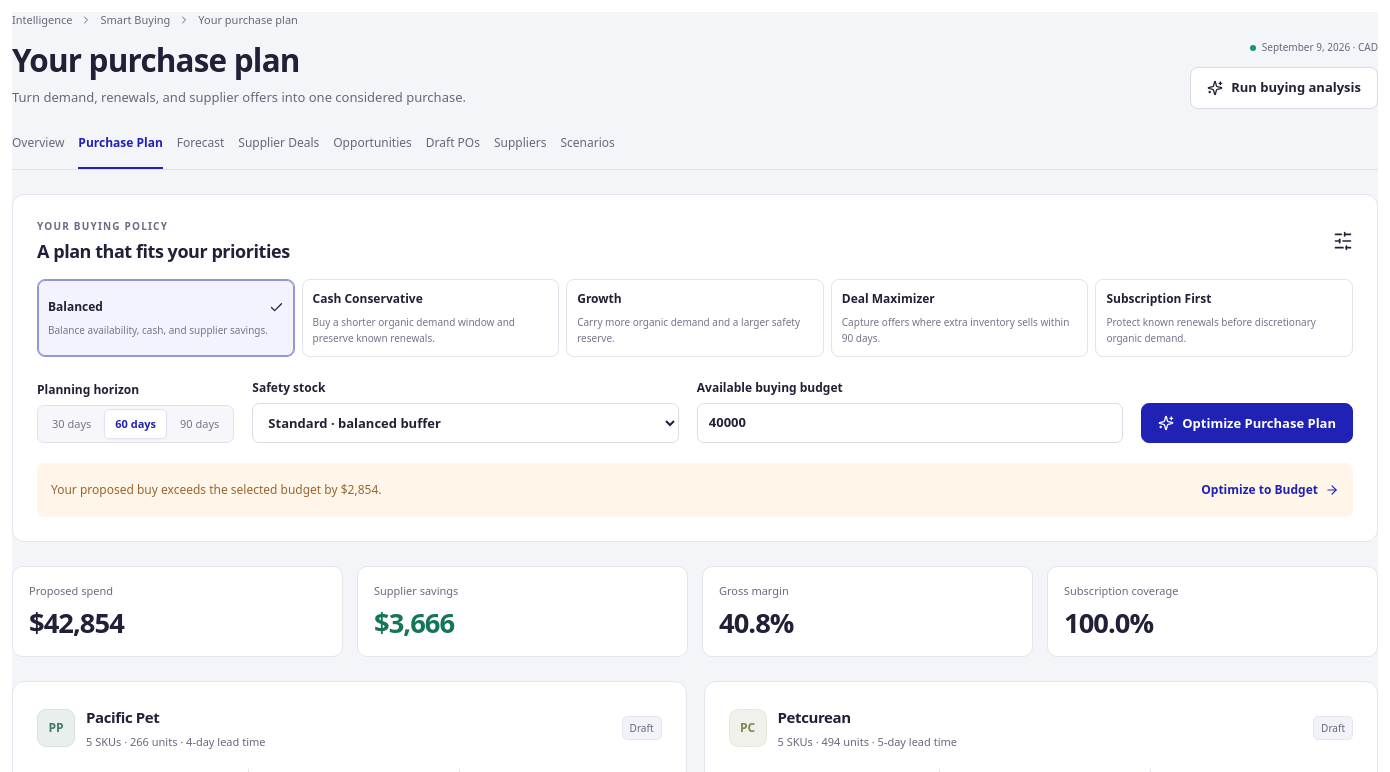
Test: Smart Buying investor workflows › optimizes to a cash budget including freight and tax
The image size is (1390, 772).
Replace the text in the number field labelled "Available buying budget" with "25000" at (910, 423), box x1=697 y1=403 x2=1123 y2=443
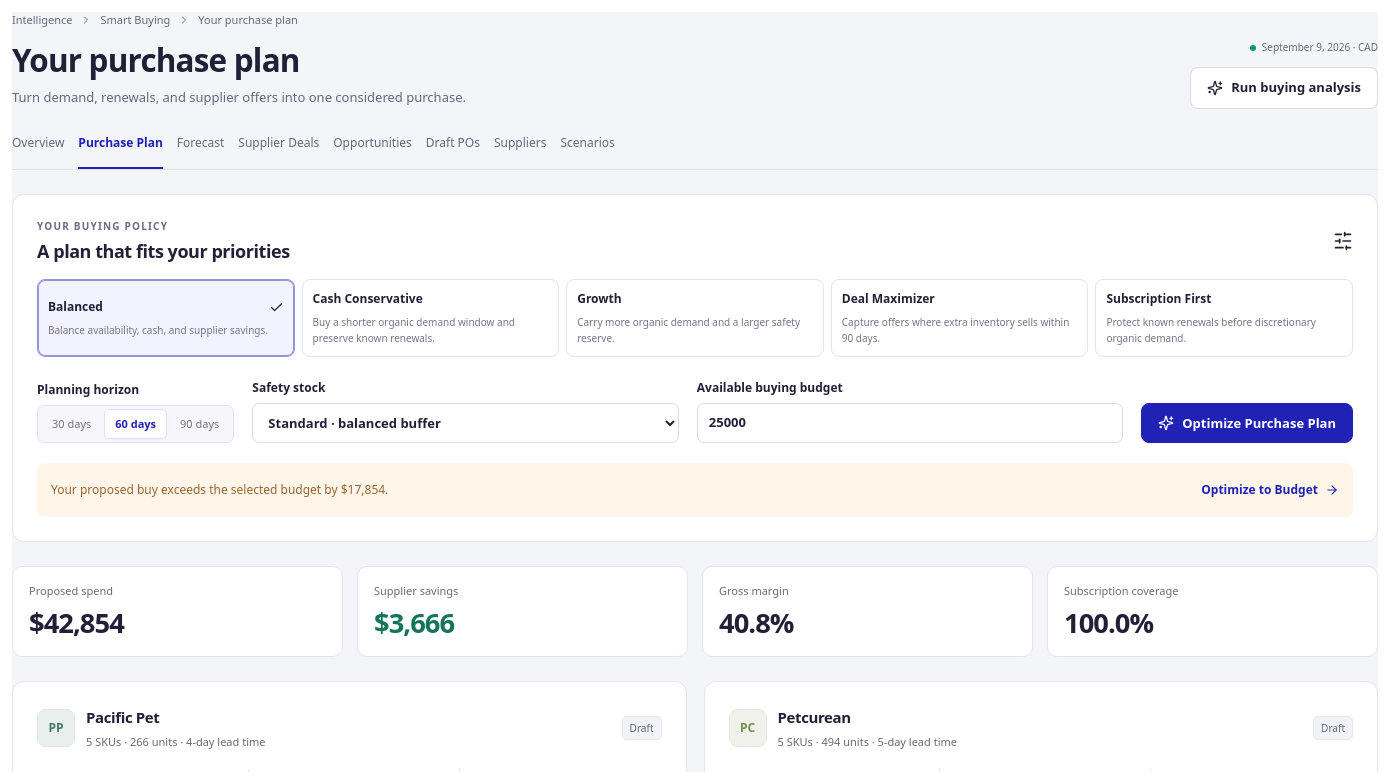
Click the button "Optimize to Budget".
click(1270, 490)  # box x1=1201 y1=474 x2=1339 y2=506
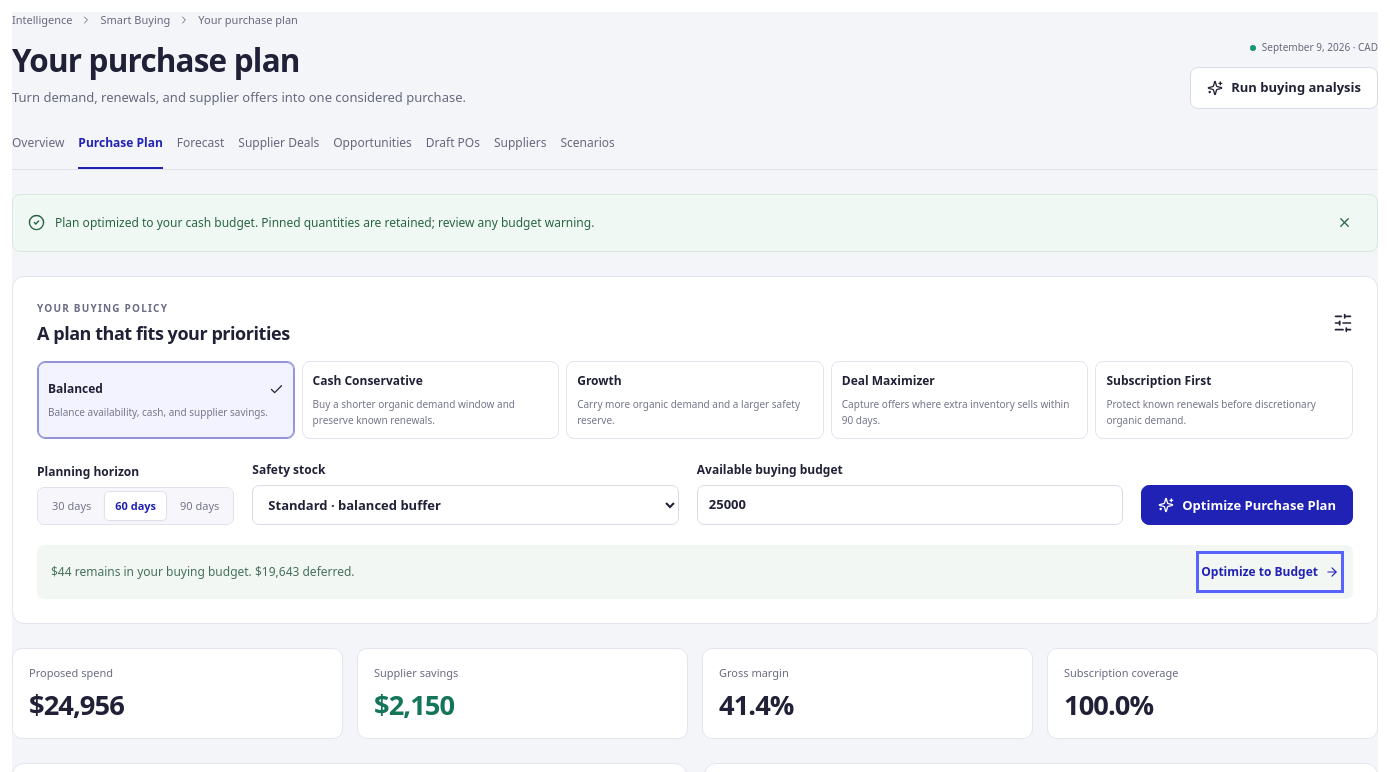
Expected: the message shows "Plan optimized to your cash budget", x1=55 y1=214 x2=594 y2=231
Expected: the text "$44 remains in your buying budget. $19,643 deferred." is shown, x1=51 y1=563 x2=355 y2=581
